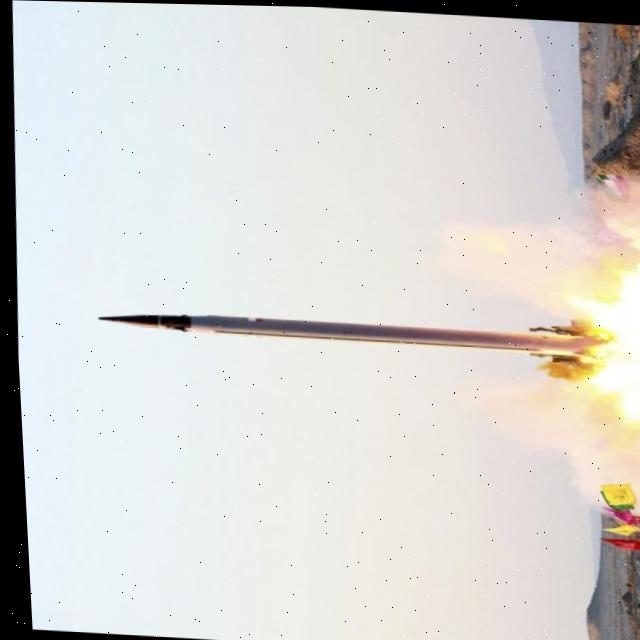missile: (83, 292, 584, 373)
